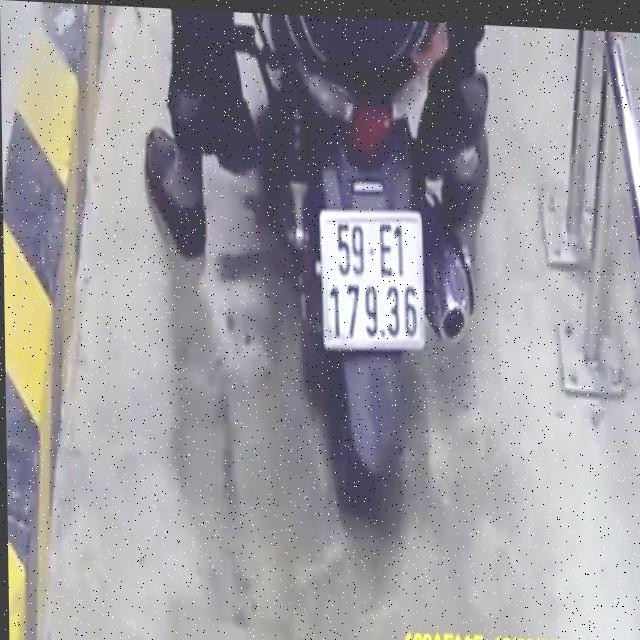motorcycle: (225, 15, 489, 556)
plate: (309, 198, 427, 354)
